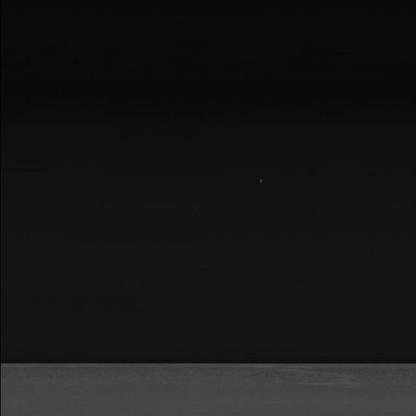silk_spot: (228, 368, 368, 392)
